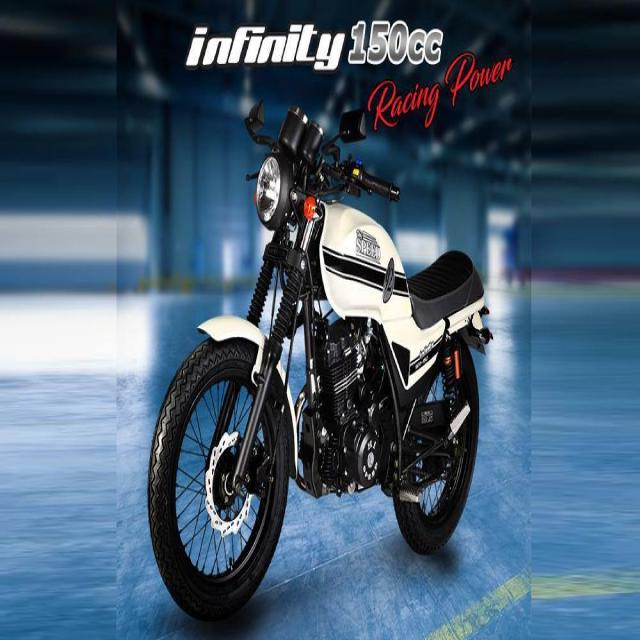motorcycle: (98, 62, 530, 623)
